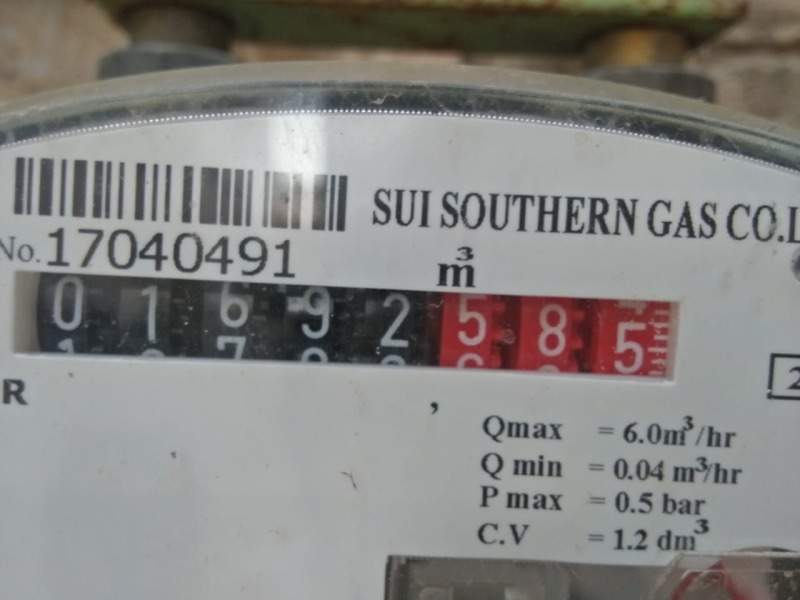ssgc: (9, 267, 679, 392)
